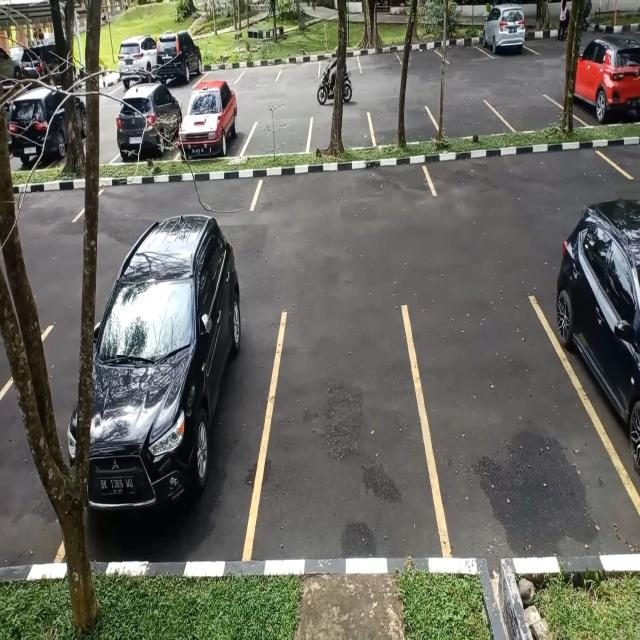empty: (266, 296, 422, 557), (421, 289, 568, 556), (426, 138, 625, 197), (251, 159, 432, 221), (367, 104, 437, 146), (496, 91, 564, 134), (246, 117, 312, 156), (434, 97, 496, 138), (310, 113, 372, 150), (438, 34, 482, 68), (278, 52, 321, 84), (238, 53, 280, 85), (358, 46, 402, 74)
occupied: (94, 266, 265, 561), (573, 49, 640, 126), (178, 97, 245, 161), (482, 10, 531, 60)
